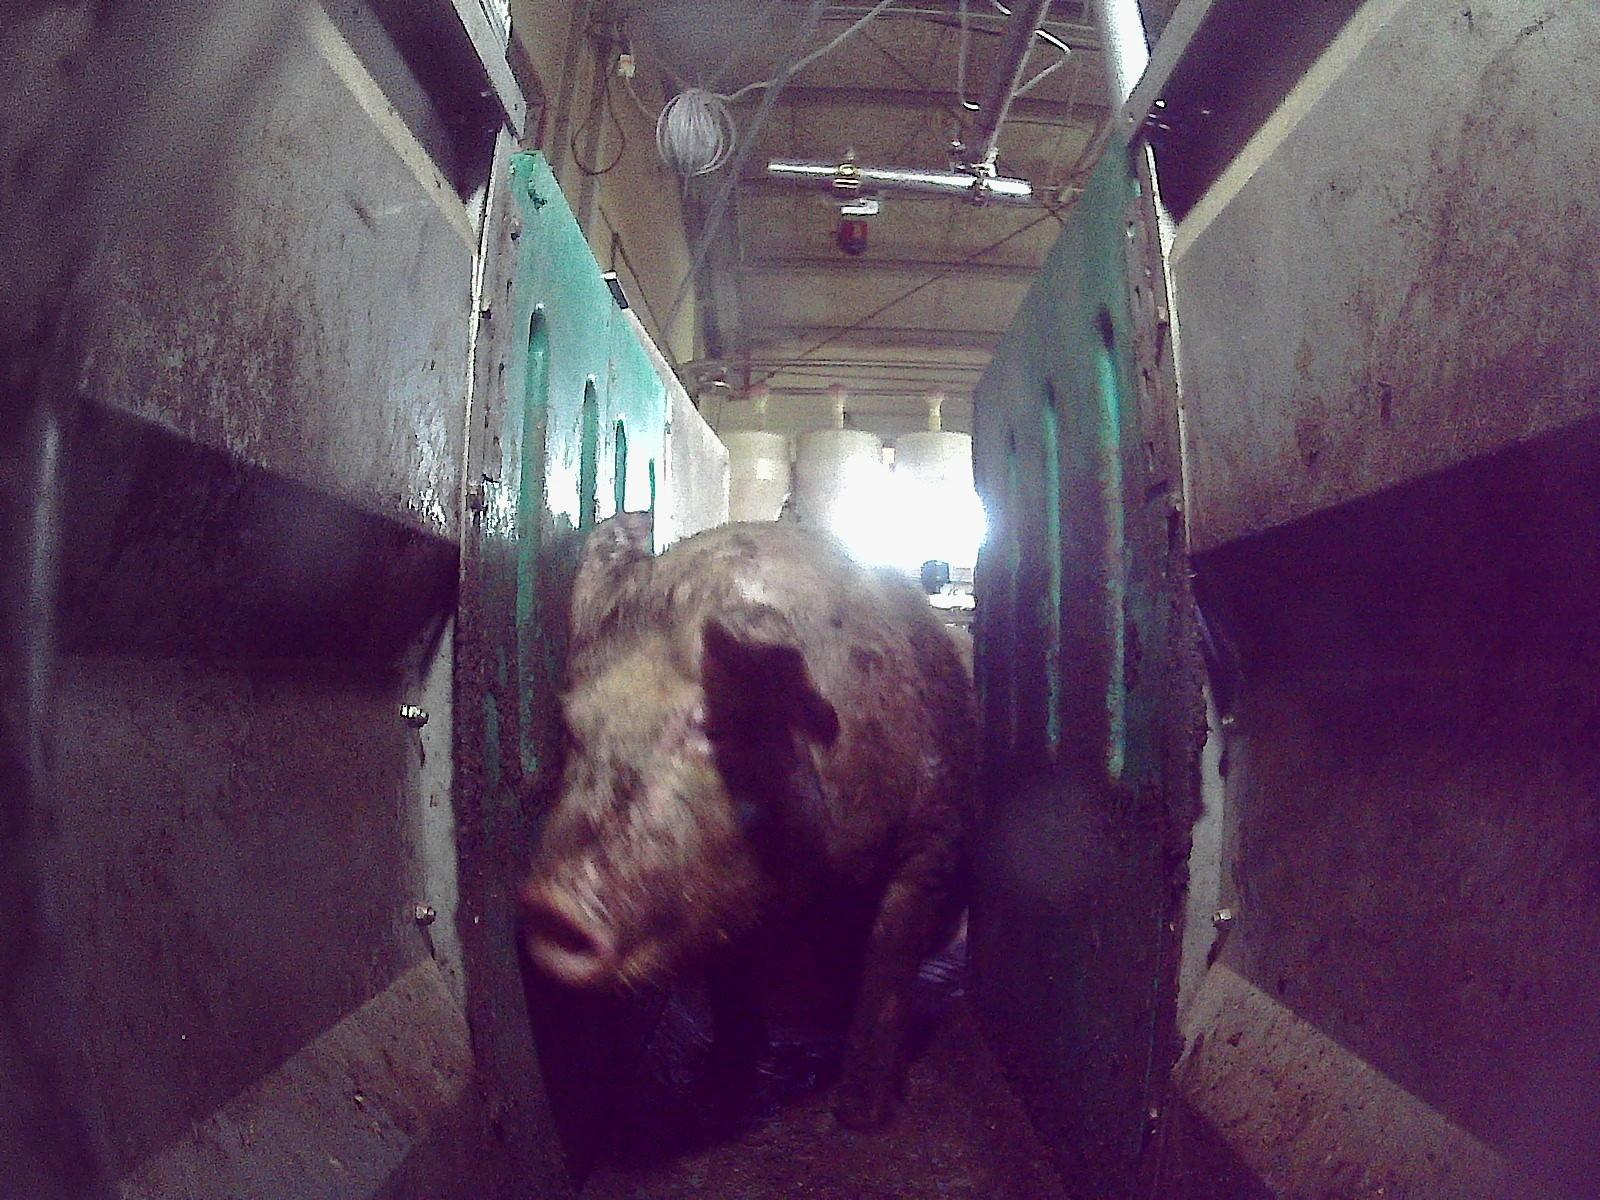Face: (515, 591, 788, 995)
